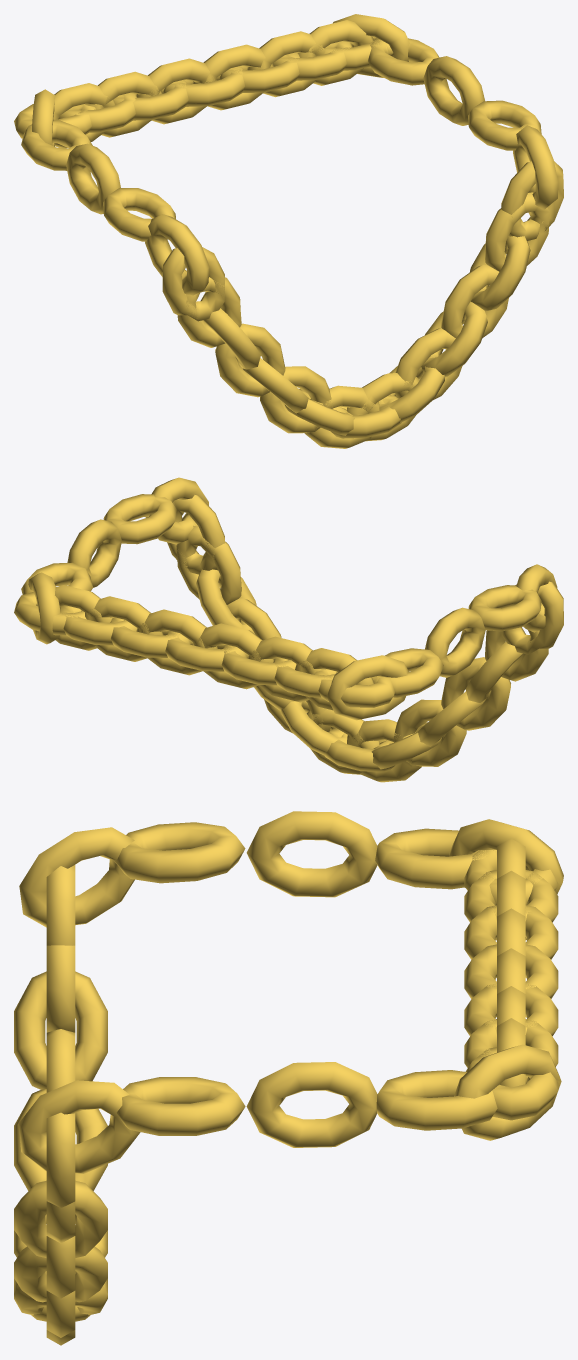
Rendered from GoldChain.glb.
3 views of the same model, one above another, from view 1: azimuth 30°, elevation 25°; view 2: azimuth 150°, elevation 25°; view 3: azimuth 270°, elevation 25° (orthographic). The views are drawn at different scales.
Visible parts, largest first — view 1: GoldChain; view 2: GoldChain; view 3: GoldChain.
Boxes of the visible parts, x1=… form: GoldChain: x1=14, y1=14, x2=563, y2=448; GoldChain: x1=14, y1=477, x2=563, y2=782; GoldChain: x1=14, y1=811, x2=563, y2=1345.
Size of the model in its own units: 1.43 by 0.8907 by 1.14.
